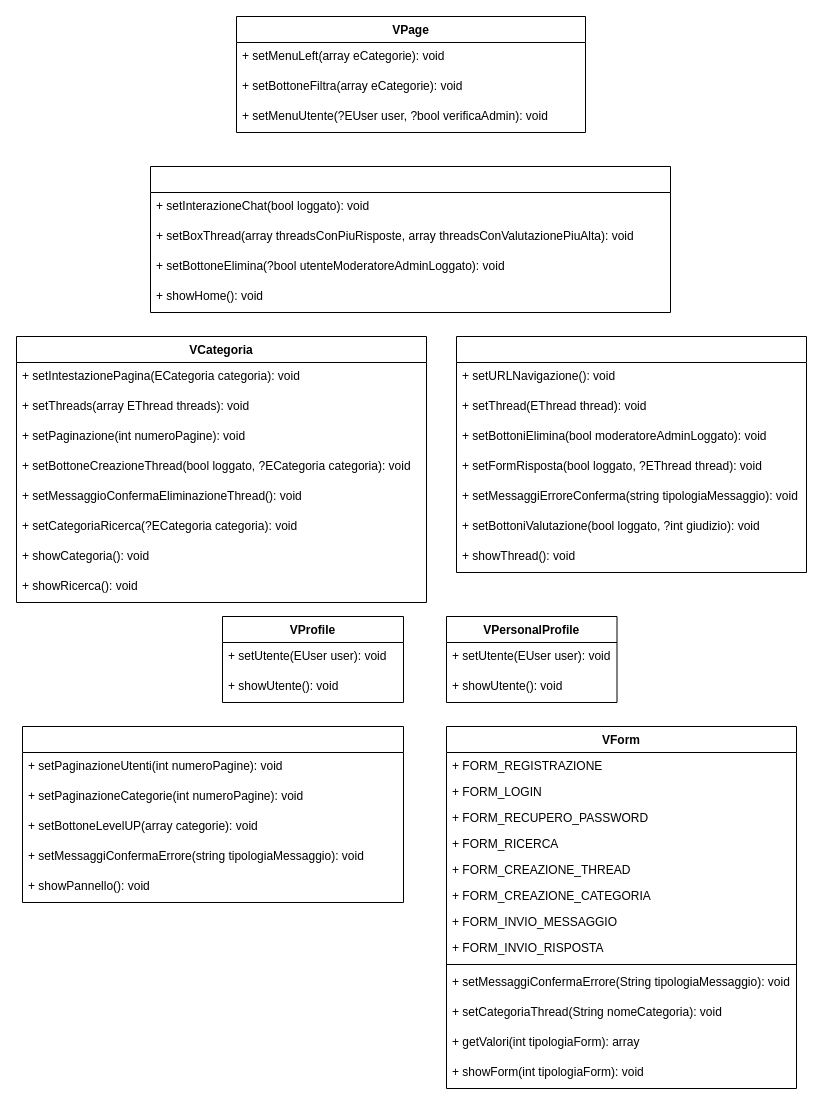
The diagram is 823 pixels wide and 1105 high, and some of its shapes have lost their labels. Here are the shapes that lost their labels. From the top down, the box of each, then its label:
(150, 166, 670, 312): VHome
(456, 336, 806, 572): VThread
(22, 726, 404, 902): VAmministrazione
